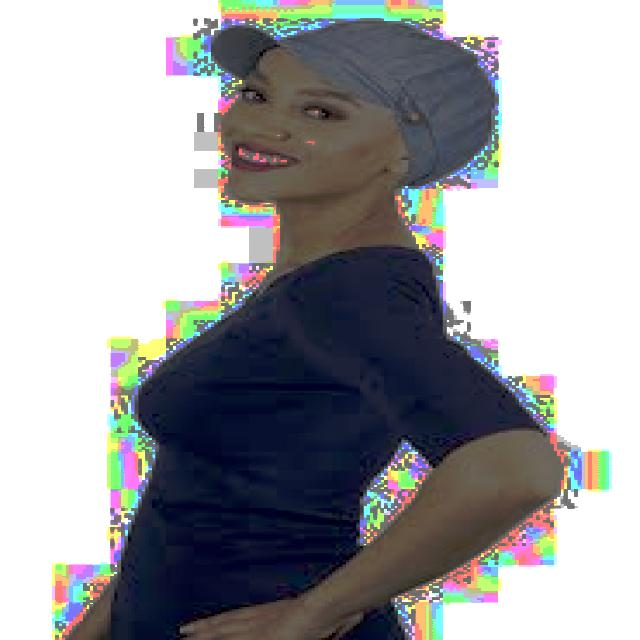TOPI: (183, 16, 502, 186)
